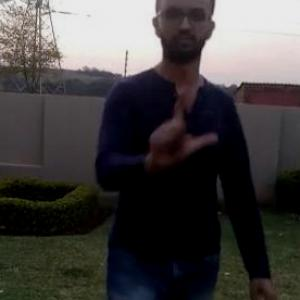land_hand: (138, 72, 222, 173)
